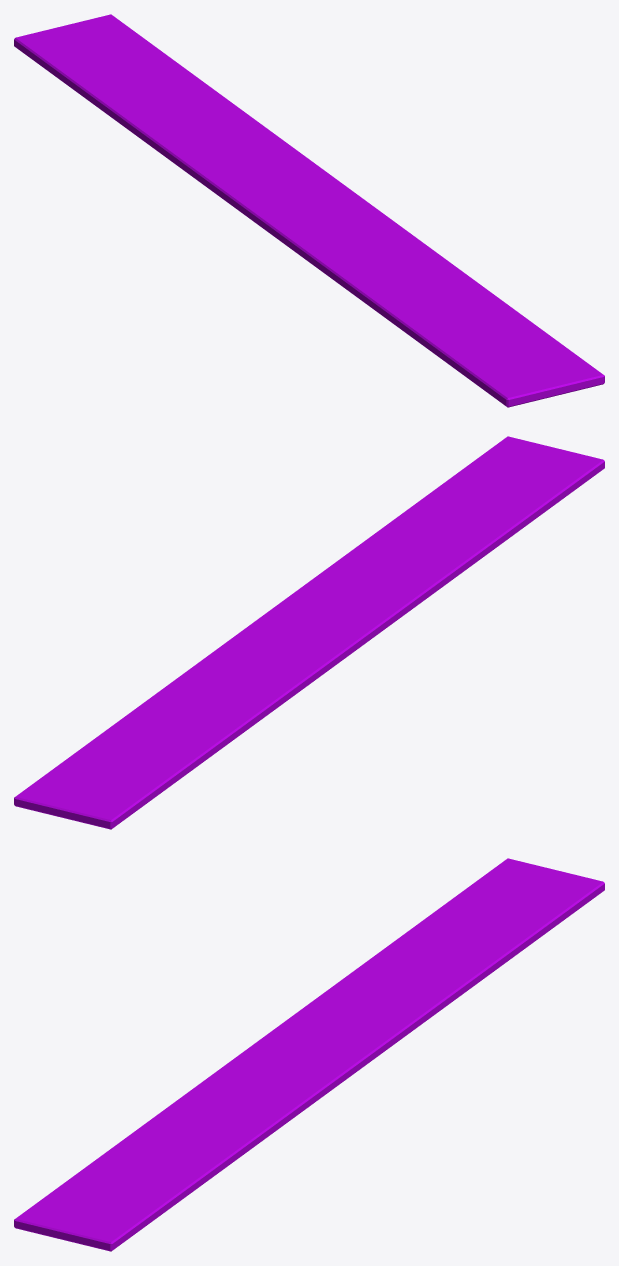
Rendered from Board_02_Long.fbx.
3 renders of one model, top to bottom at view 1: azimuth 30°, elevation 25°; view 2: azimuth 150°, elevation 25°; view 3: azimuth 330°, elevation 25°, orthographic.
Parts seen in each view (by area): view 1: Board_02_Long; view 2: Board_02_Long; view 3: Board_02_Long.
Part boxes in pixels (<box>): Board_02_Long: <box>14,14,604,407</box>; Board_02_Long: <box>14,436,604,829</box>; Board_02_Long: <box>14,858,604,1251</box>.
Size of the model in its own units: 82.47 by 7.62 by 716.
